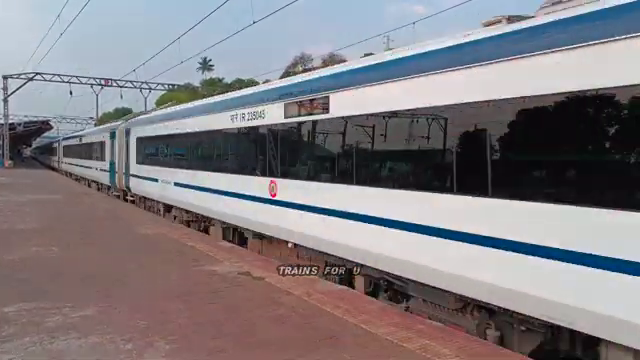Boogie: (233, 108, 276, 121)
